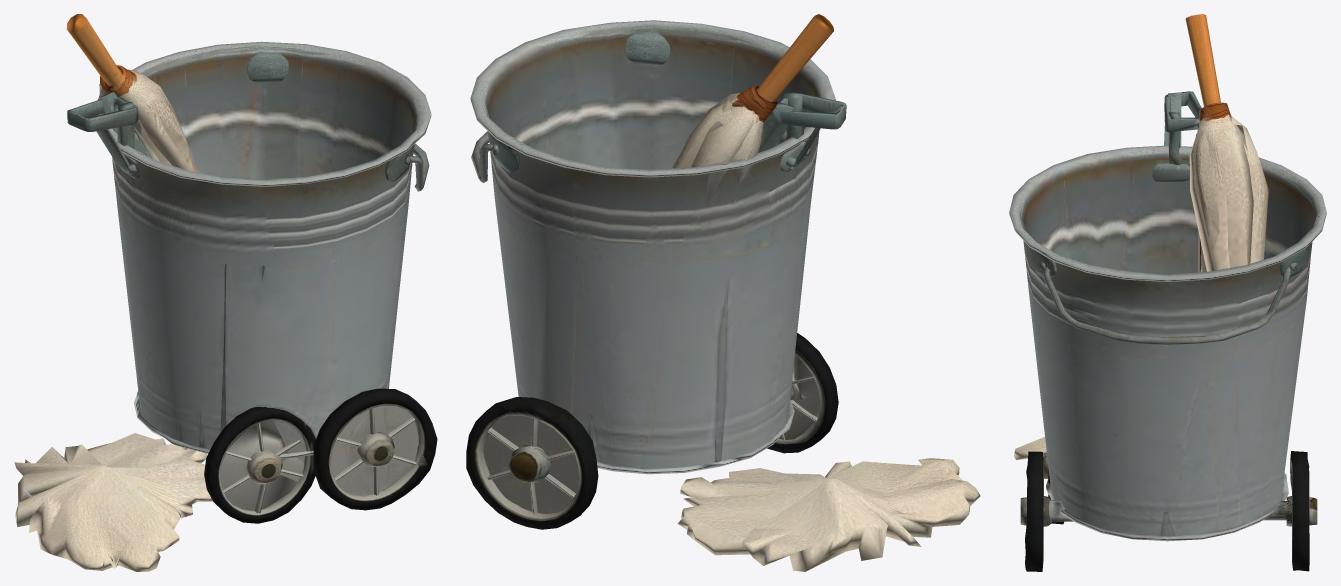
Rendered from mop_bucket.glb.
The picture shows the model from 3 angles, left to right: view 1: azimuth 30°, elevation 25°; view 2: azimuth 150°, elevation 25°; view 3: azimuth 270°, elevation 25°; orthographic projection. The views are drawn at different scales.
Size of the model in its own units: 0.8271 by 0.95 by 0.5948.
1 material, 1 textured.
